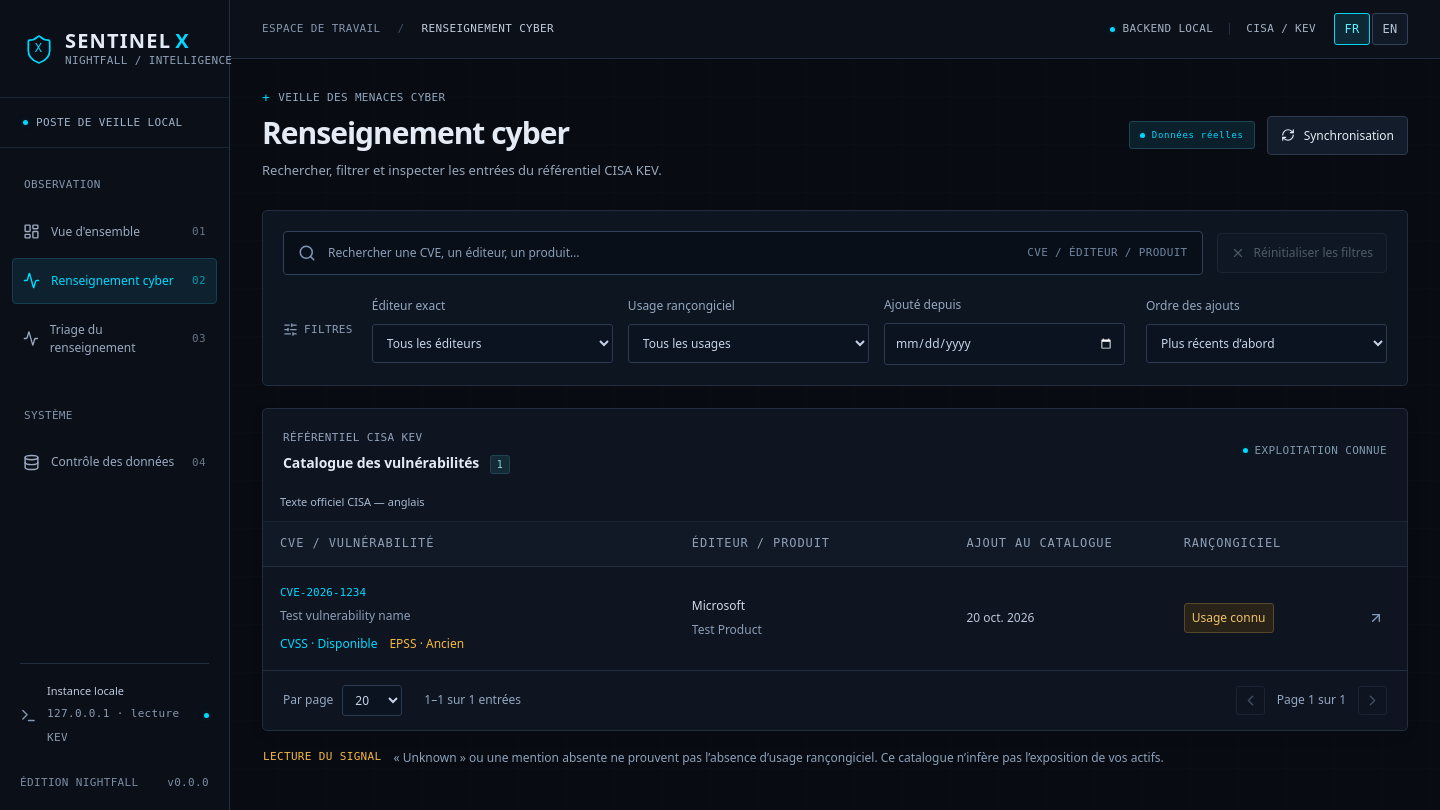
adds labelled local indicators for only visible CVEs without changing catalogue requests
expect the text "CVSS · Disponible" is shown: met, box [280, 634, 377, 655]
expect the text "EPSS · Ancien" is shown: met, box [389, 634, 464, 655]
Step 1. Click the button with test id "language-en" → point(1390, 29), box [1372, 13, 1408, 45]
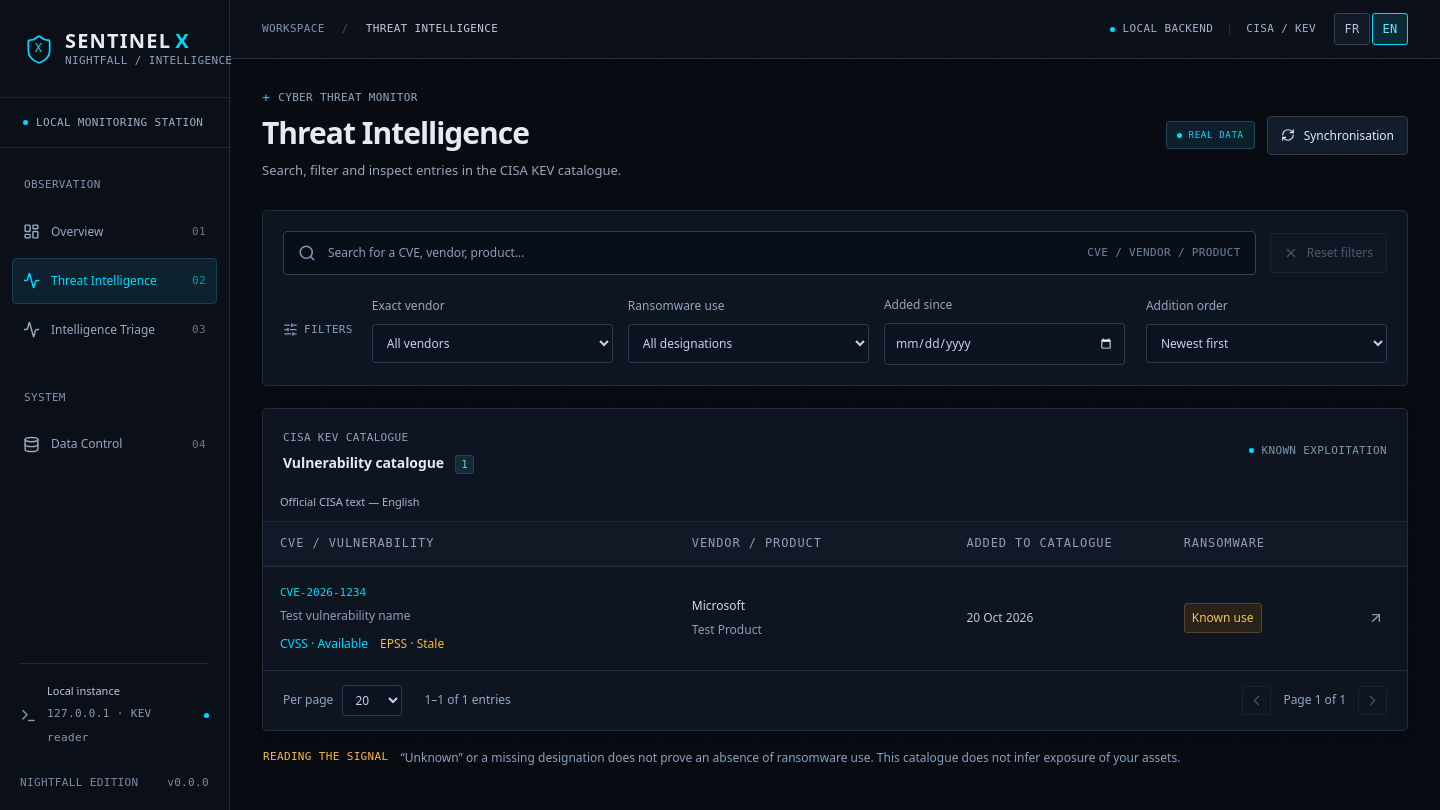
expect the text "CVSS · Available" is shown: met, box [280, 634, 368, 655]
expect the text "EPSS · Stale" is shown: met, box [380, 634, 444, 655]
